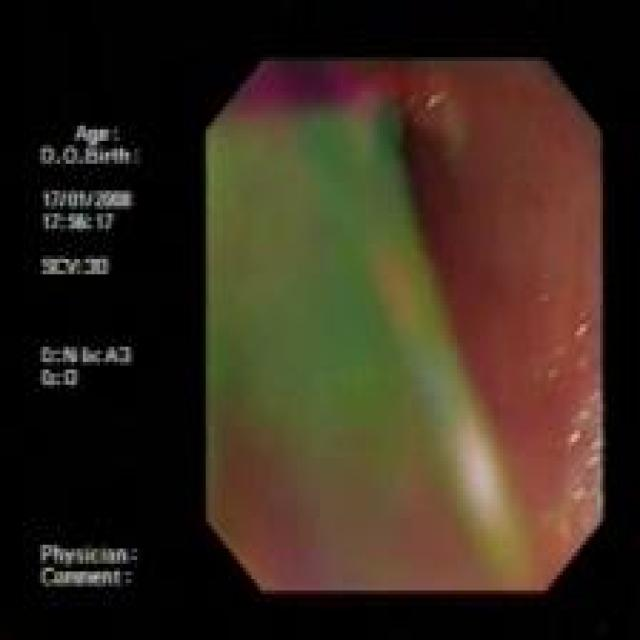color misalignment: (206, 64, 523, 589), (38, 120, 152, 600), (538, 486, 580, 559)
